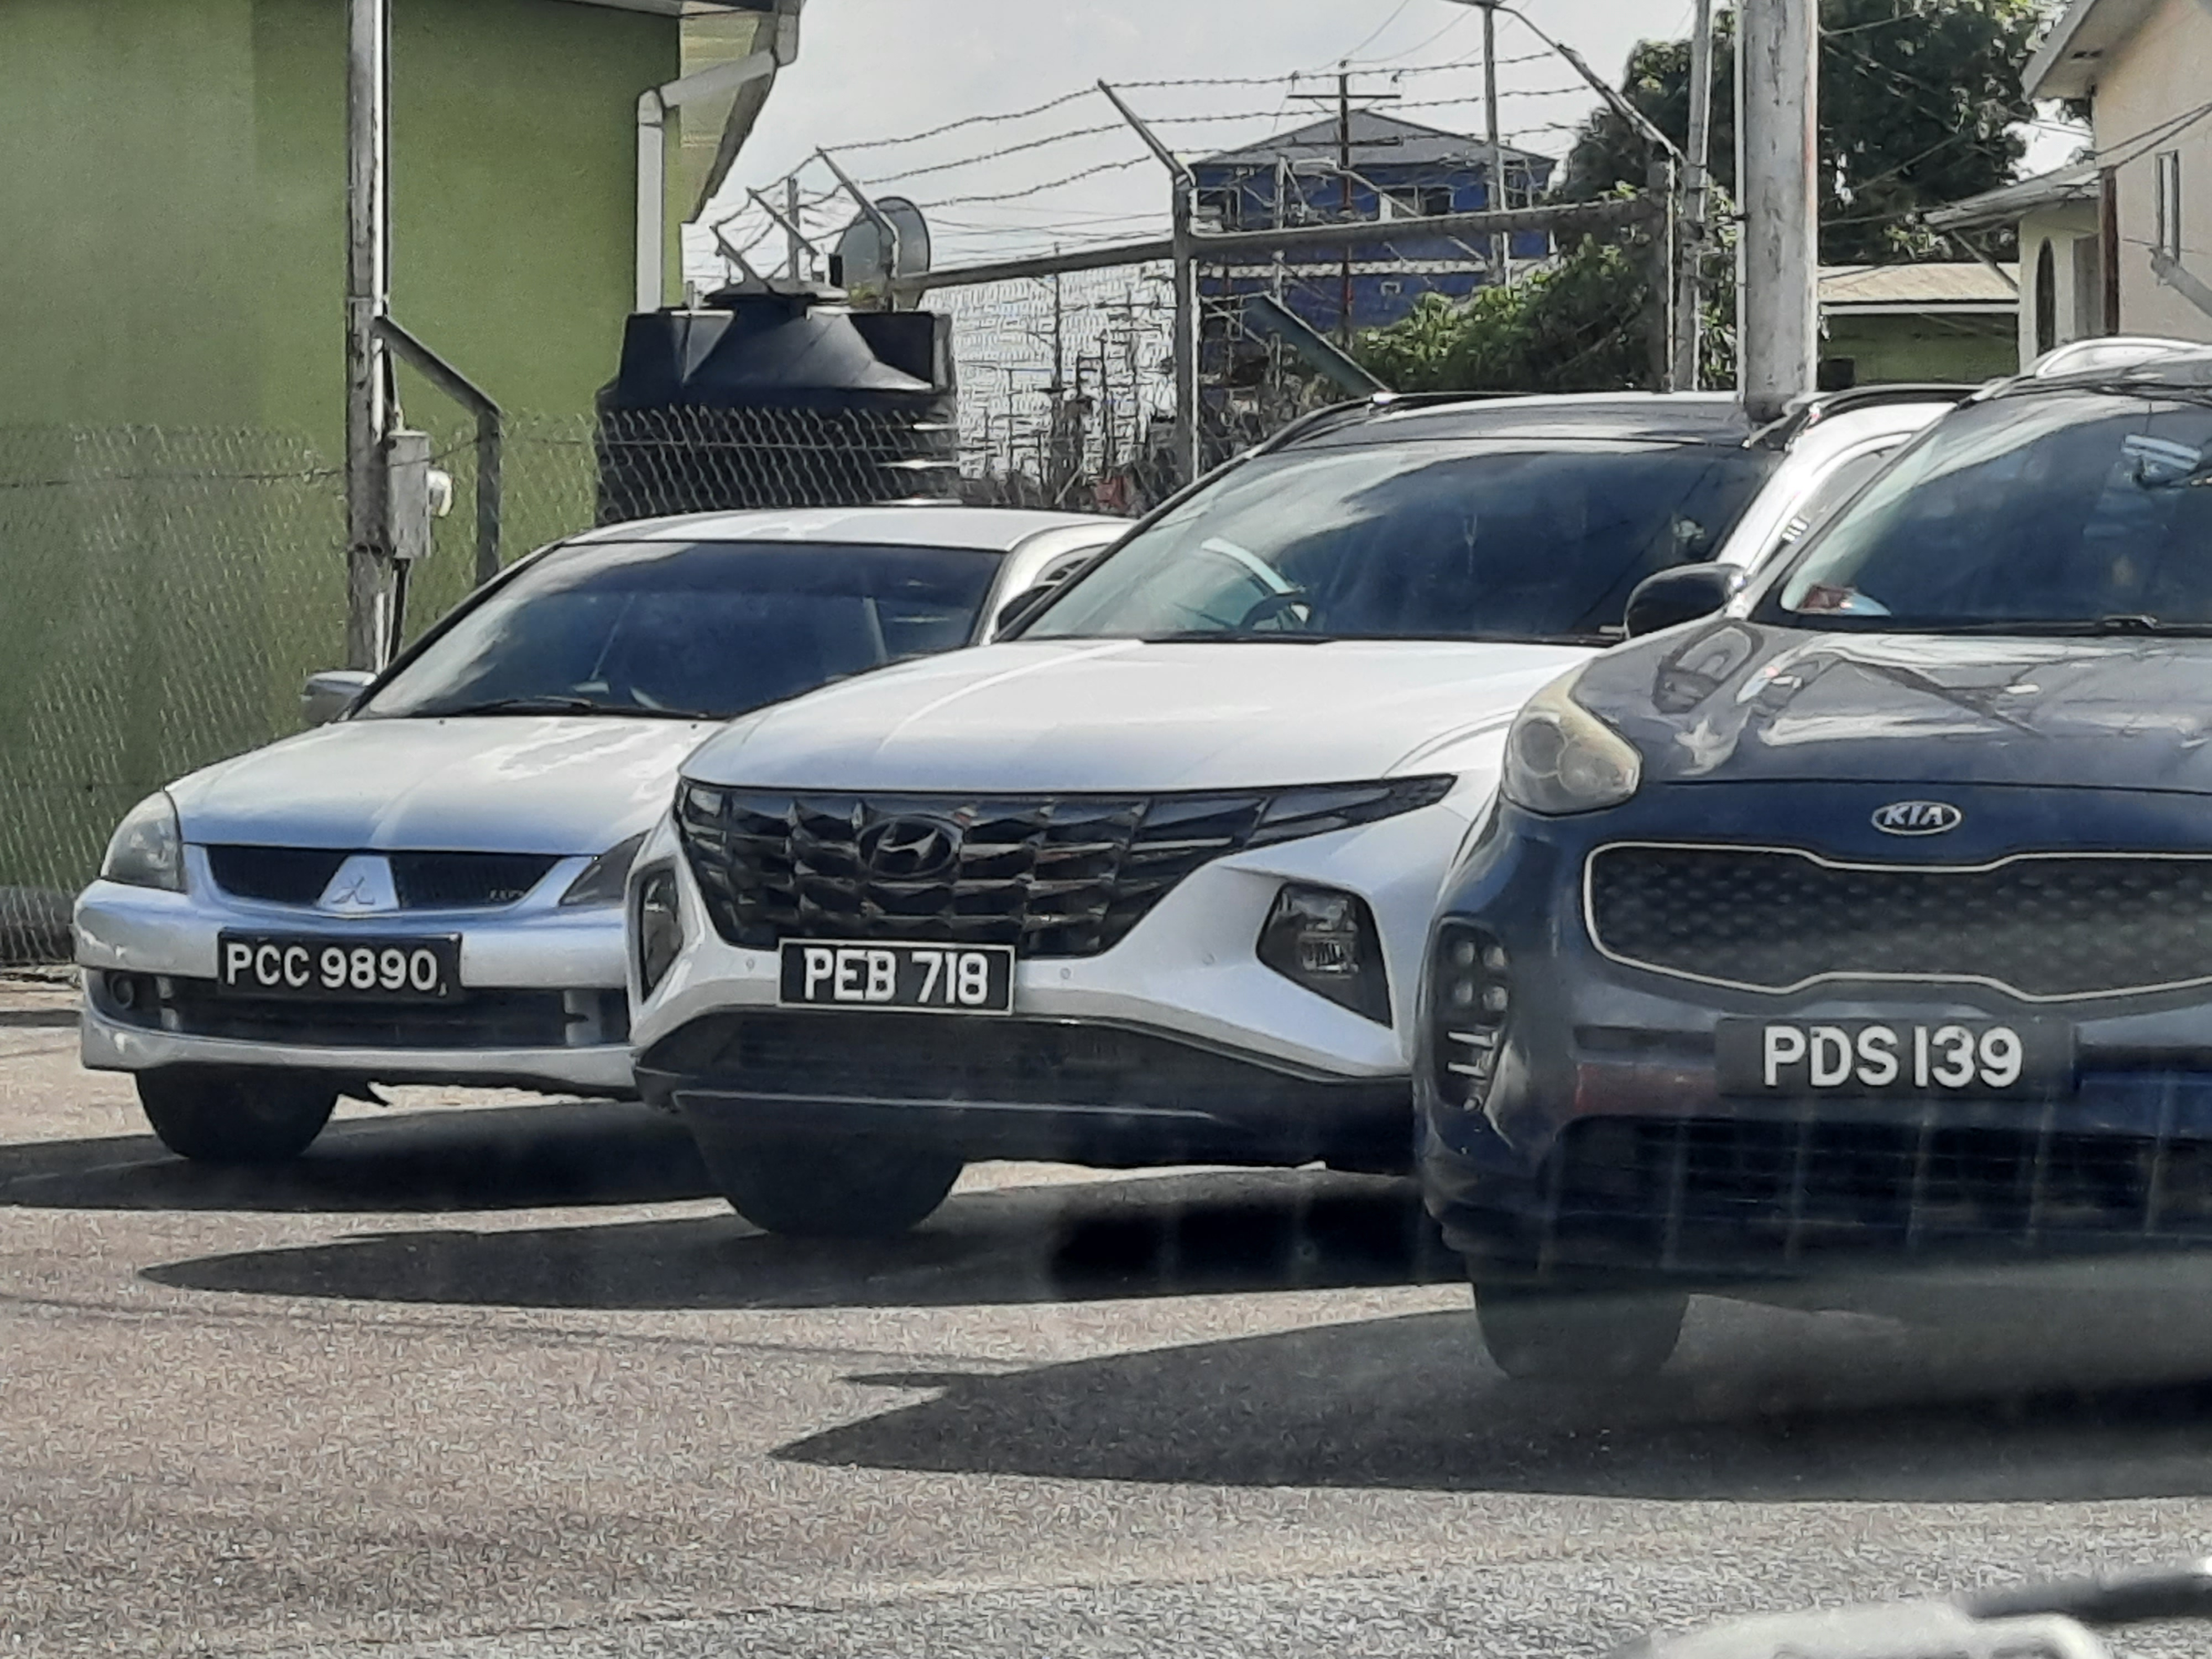License-Plate: (1718, 1014, 2067, 1093), (782, 938, 1012, 1004), (218, 935, 457, 990)
